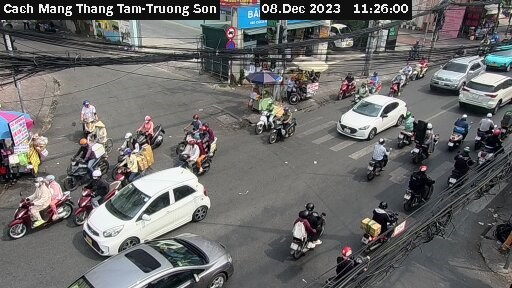car: (83, 159, 209, 252), (59, 230, 245, 288), (337, 86, 410, 143), (463, 65, 512, 117), (429, 47, 484, 92), (487, 38, 512, 68)
motorbike: (8, 181, 70, 235), (281, 208, 332, 255), (65, 147, 120, 186), (367, 206, 415, 248), (361, 145, 408, 187), (438, 144, 472, 196), (173, 145, 230, 176), (76, 178, 120, 218), (400, 171, 442, 211), (265, 113, 312, 147), (64, 110, 120, 138), (128, 117, 181, 146), (118, 147, 163, 178), (251, 105, 295, 132), (470, 141, 501, 176), (470, 110, 500, 146), (415, 130, 444, 166), (445, 113, 471, 151), (396, 113, 422, 149), (382, 71, 412, 99), (177, 118, 213, 139), (329, 70, 356, 95), (399, 58, 423, 84), (412, 53, 434, 77)
